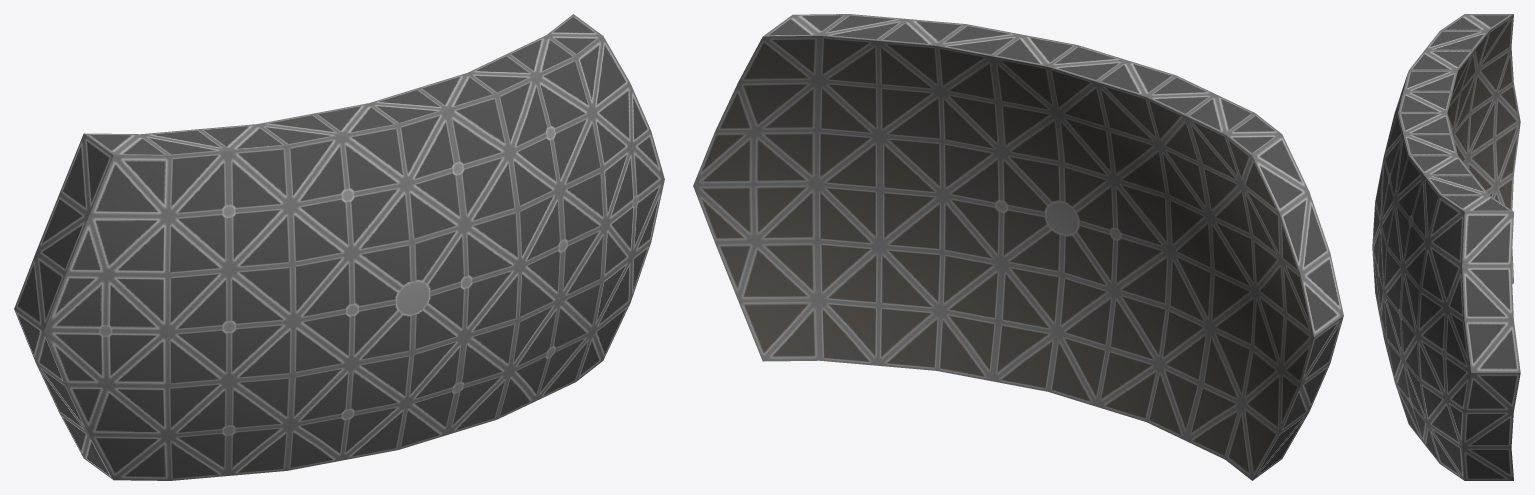
File: sar dish.obj
3 views of the same model, side by side, from view 1: azimuth 30°, elevation 25°; view 2: azimuth 150°, elevation 25°; view 3: azimuth 270°, elevation 25° (orthographic). The views are drawn at different scales.
Parts seen in each view (by area): view 1: 3; view 2: 3; view 3: 3.
Part boxes in pixels (x1,y1,x2,y2): 3: (14,14,664,480); 3: (693,14,1343,480); 3: (1372,14,1520,480).
Bounding box in the file's own units: 3 × 1.5 × 0.75.
1 material, 1 textured.
